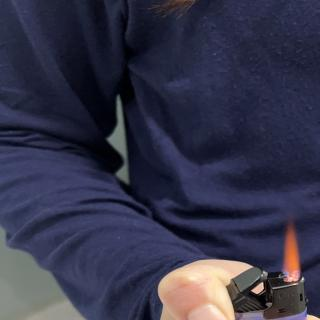fire: (282, 224, 304, 284)
